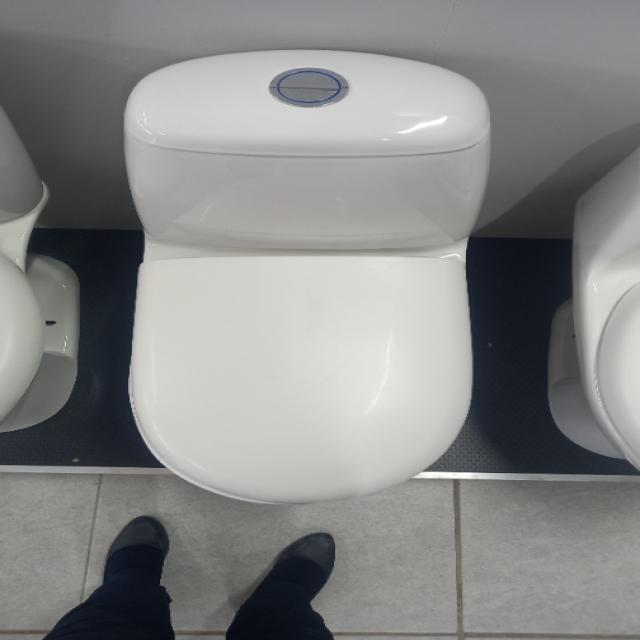toilet: (118, 43, 498, 509)
